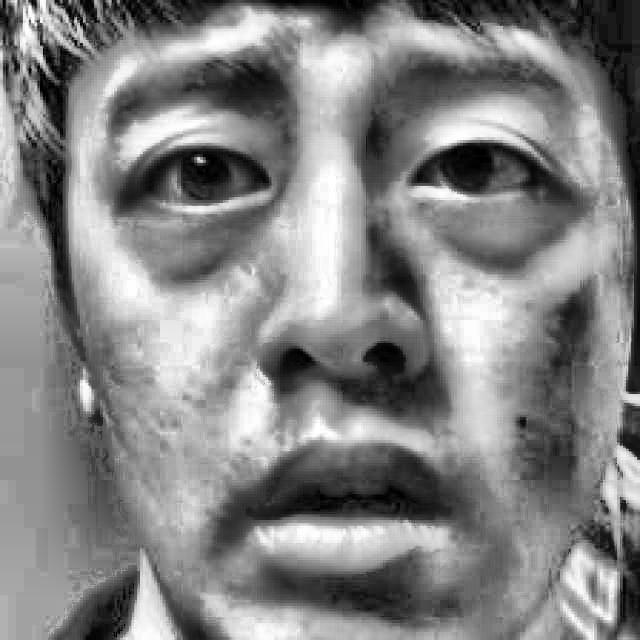fear: (96, 26, 590, 616)
